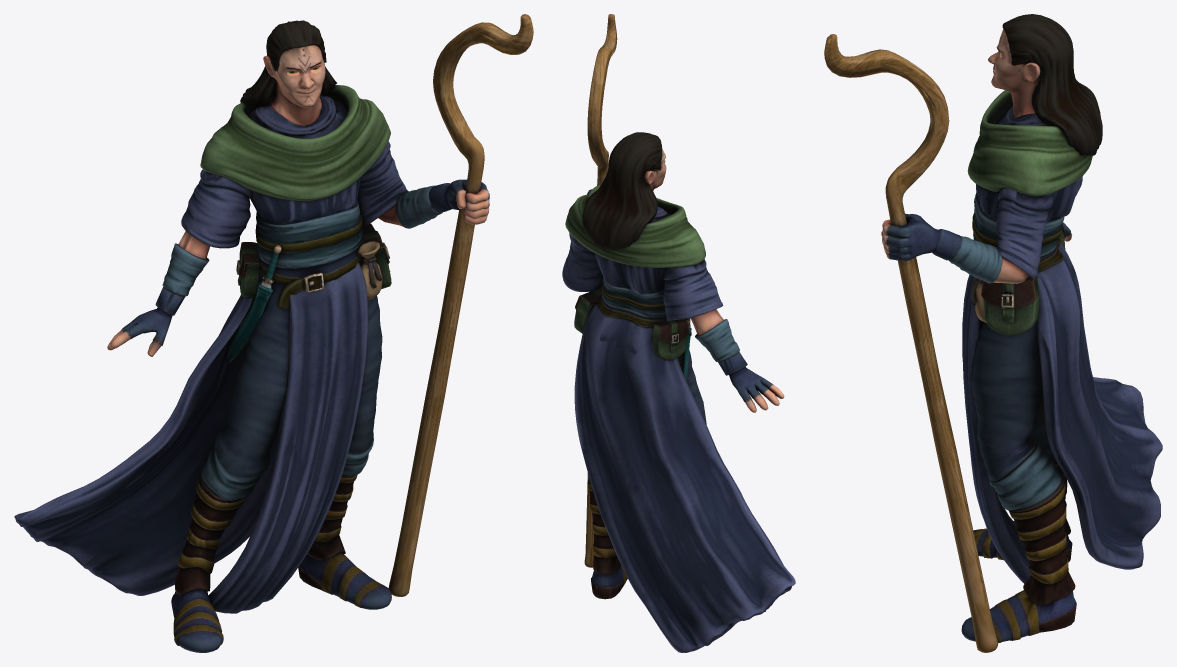
The model's file is MZ4250 - Druid Male_C.glb.
The picture shows the model from 3 angles, left to right: view 1: azimuth 30°, elevation 25°; view 2: azimuth 150°, elevation 25°; view 3: azimuth 270°, elevation 25°; orthographic projection. The views are drawn at different scales.
Parts seen in each view (by area): view 1: Pouch Generic 2.001; view 2: Pouch Generic 2.001; view 3: Pouch Generic 2.001.
Boxes of the visible parts, x1,y1,x2,y2 form: Pouch Generic 2.001: (14,14,533,652); Pouch Generic 2.001: (562,14,795,652); Pouch Generic 2.001: (824,14,1162,652).
Bounding box in the file's own units: 0.6186 × 0.9968 × 0.47.
Materials: 1 (1 with a texture image).
